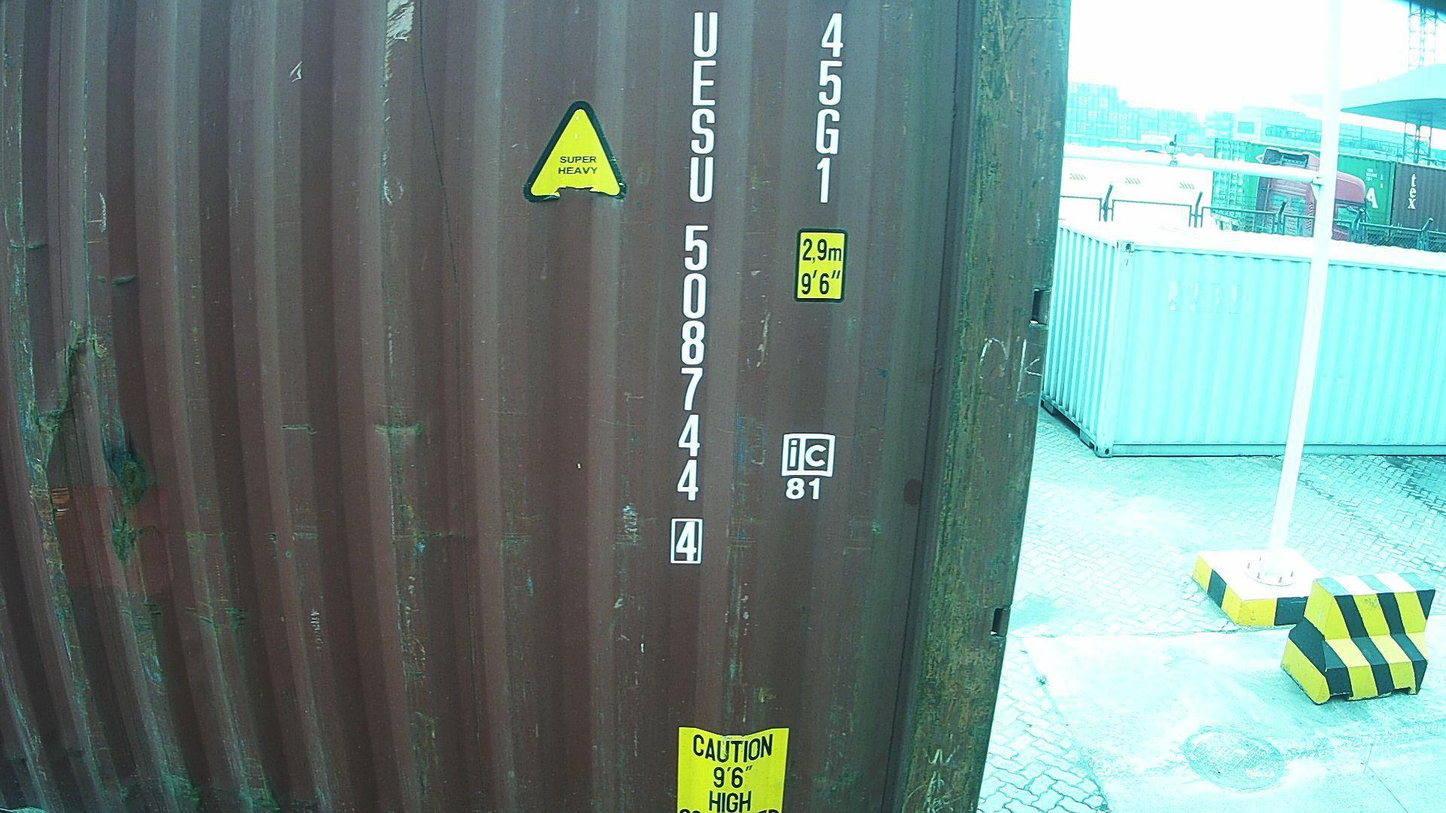container-numbers: (664, 5, 721, 569), (805, 8, 853, 211)
